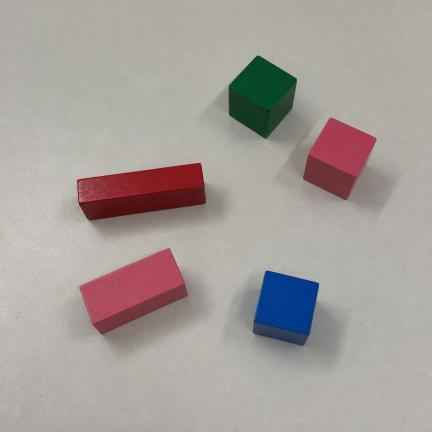BuildingBlocks: (81, 249, 187, 333), (78, 164, 205, 219), (304, 119, 376, 199), (229, 57, 296, 137), (254, 272, 318, 345)
